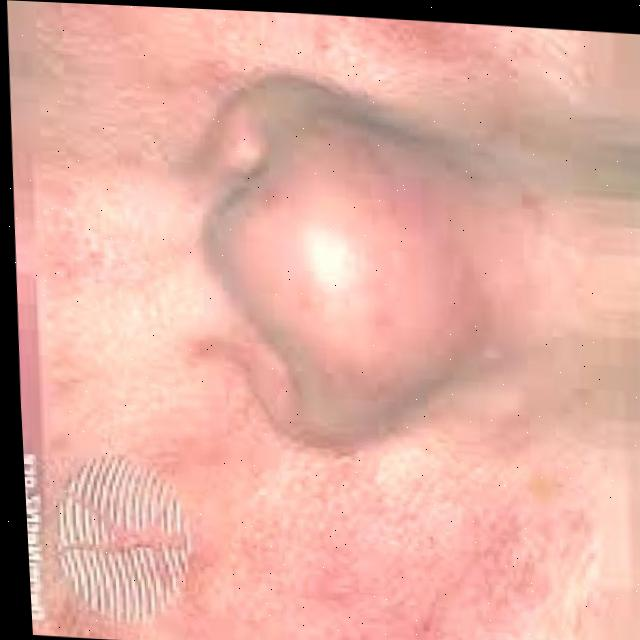Rosacea: (231, 473, 579, 640), (316, 14, 495, 80)
